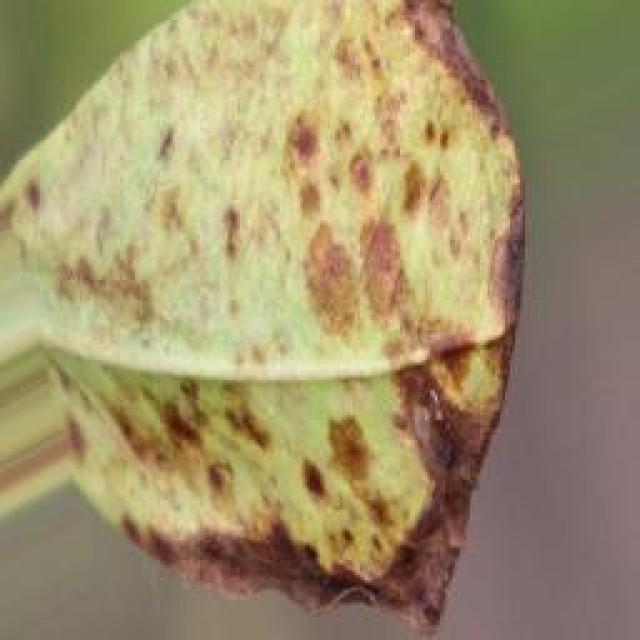Whitefly: (0, 0, 530, 640)
